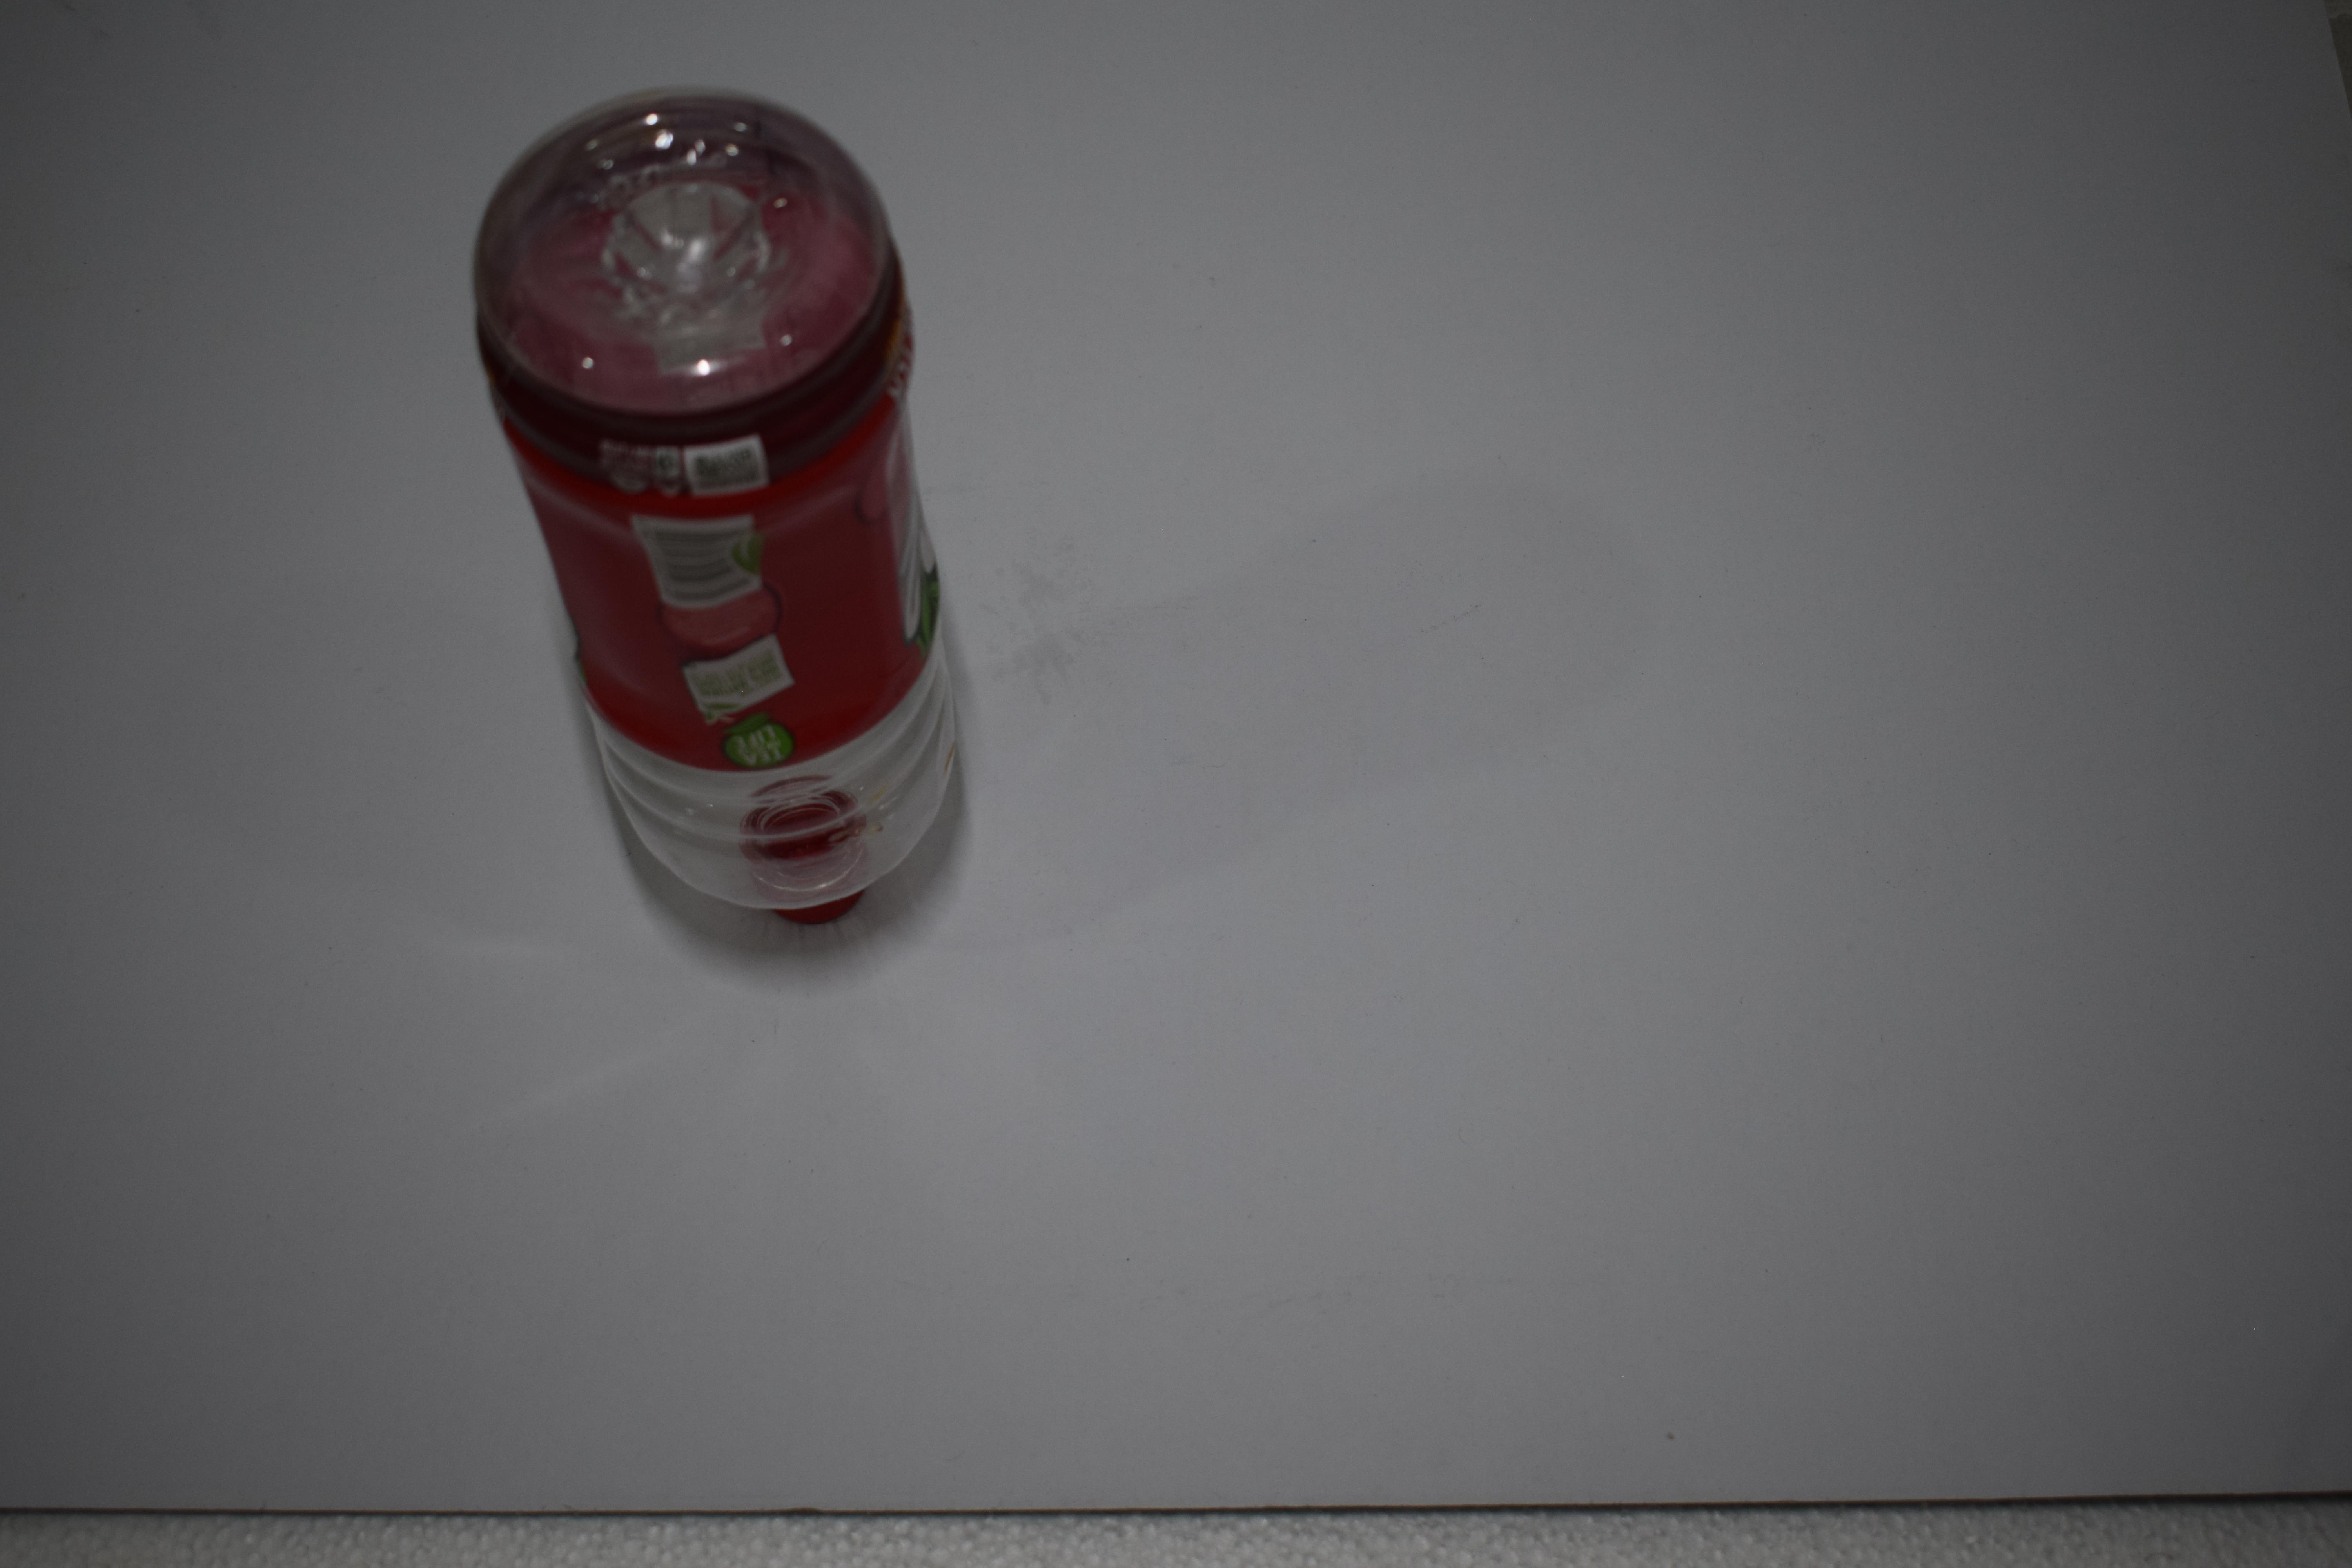bottle: (446, 474, 964, 536)
